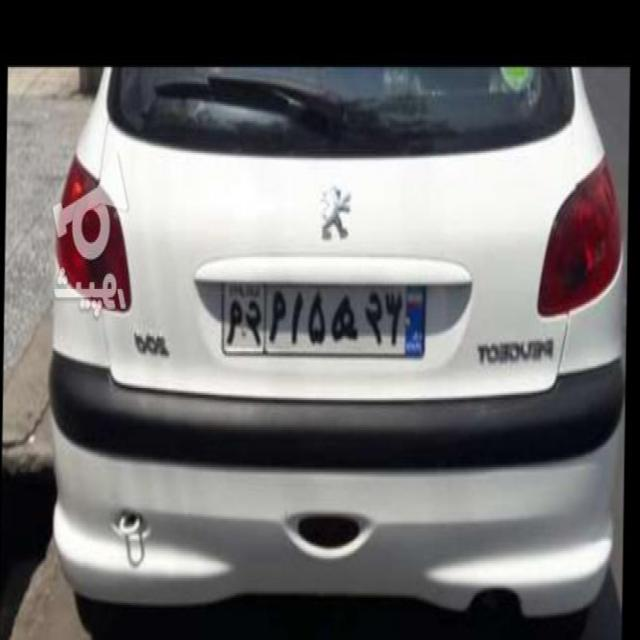licence: (219, 276, 436, 356)
